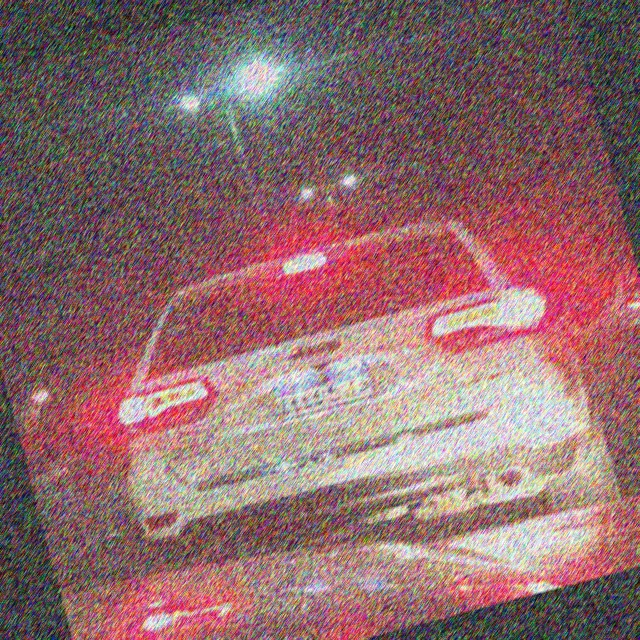License Plate: (269, 356, 376, 422)
